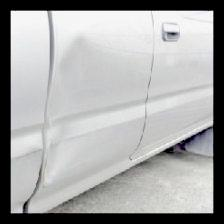door_dent: (52, 32, 139, 201)
